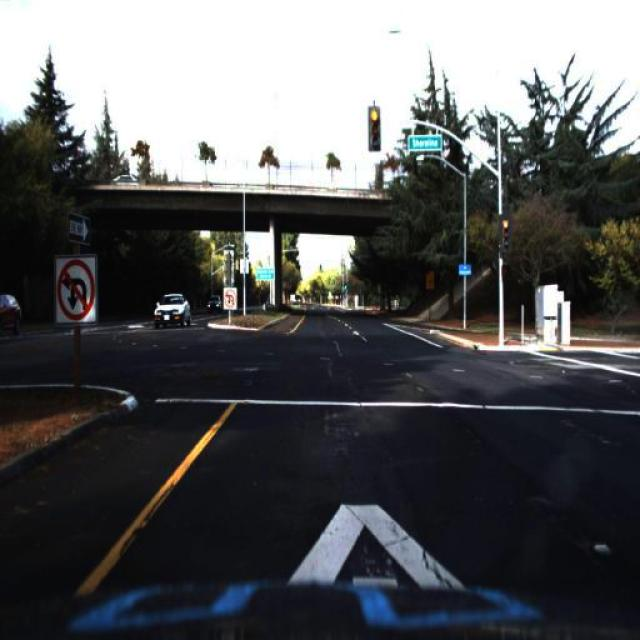semaforo: (368, 106, 381, 151)
